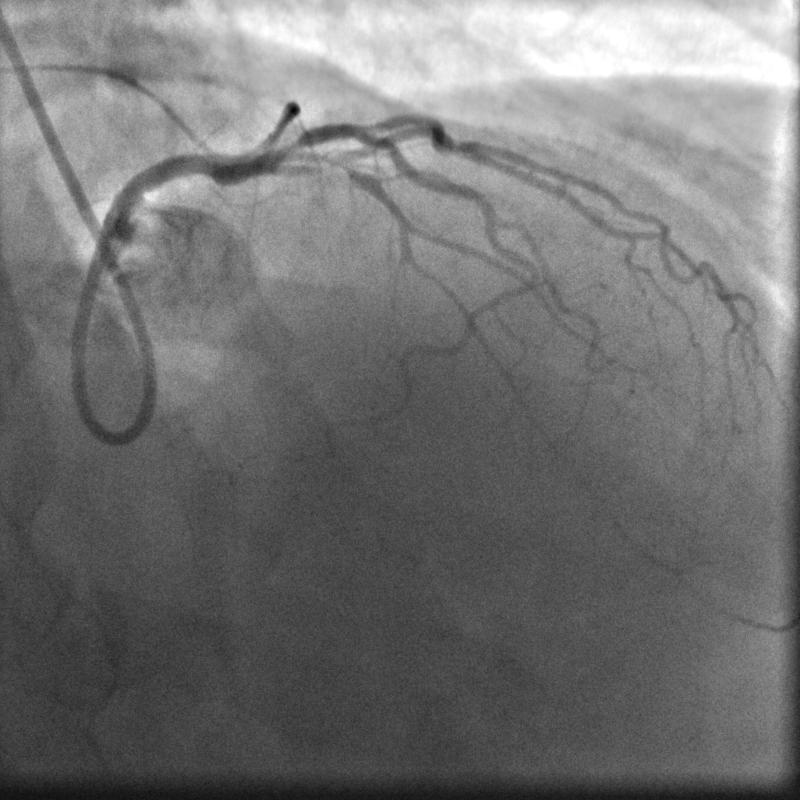Stenosis: (277, 133, 303, 159)
